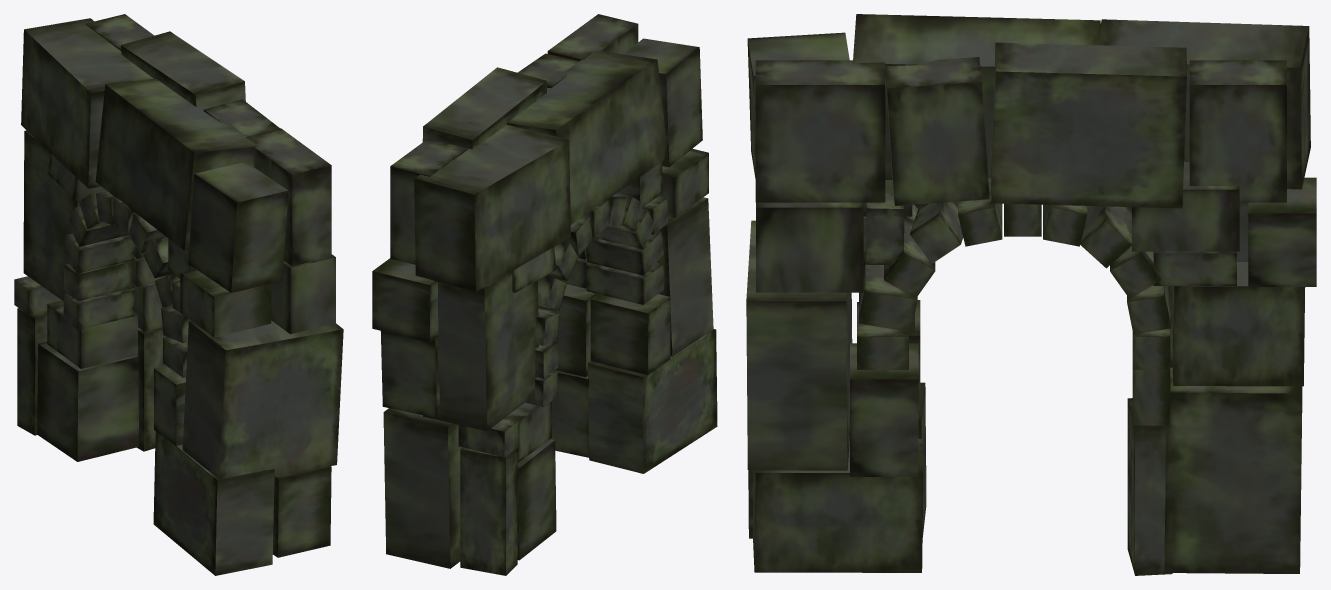
File: ruin-archway-03.fbx
The picture shows the model from 3 angles, left to right: view 1: azimuth 30°, elevation 25°; view 2: azimuth 150°, elevation 25°; view 3: azimuth 270°, elevation 25°; orthographic projection. The views are drawn at different scales.
Parts seen in each view (by area): view 1: archway_03; view 2: archway_03; view 3: archway_03.
Boxes of the visible parts, x1=… form: archway_03: x1=14, y1=14, x2=343, y2=575; archway_03: x1=372, y1=14, x2=717, y2=575; archway_03: x1=746, y1=14, x2=1316, y2=575.
Bounding box in the file's own units: 147 × 437 × 442.
